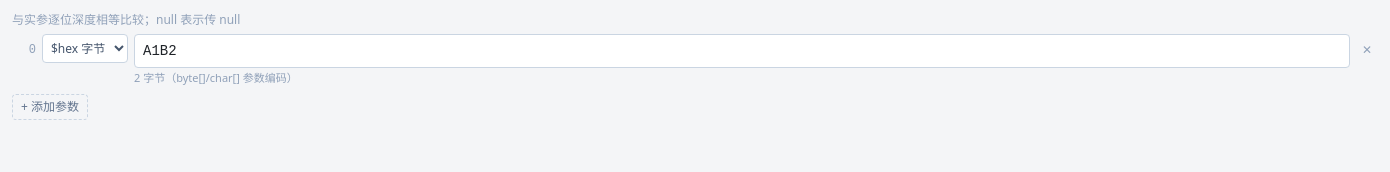
it: ArgsEditor › $hex 控件：奇数长度 hex 标红（值仍提交，保存期由校验器拦截）
Replace the text in the field showing "A1B2" with "A1B3C". click: (742, 51)
box: [134,34,1350,68]
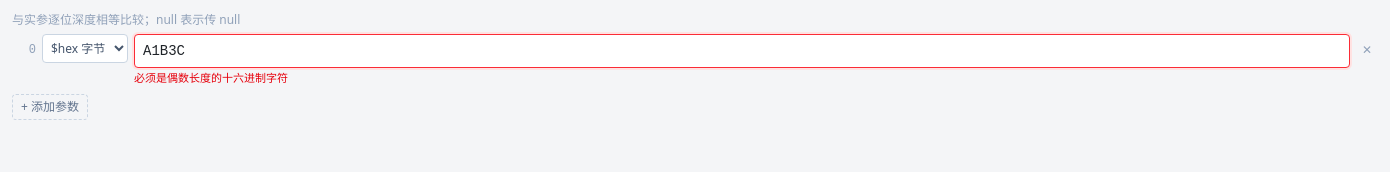
Result: the text "必须是偶数长度的十六进制字符" is shown at [134,70,288,85]
